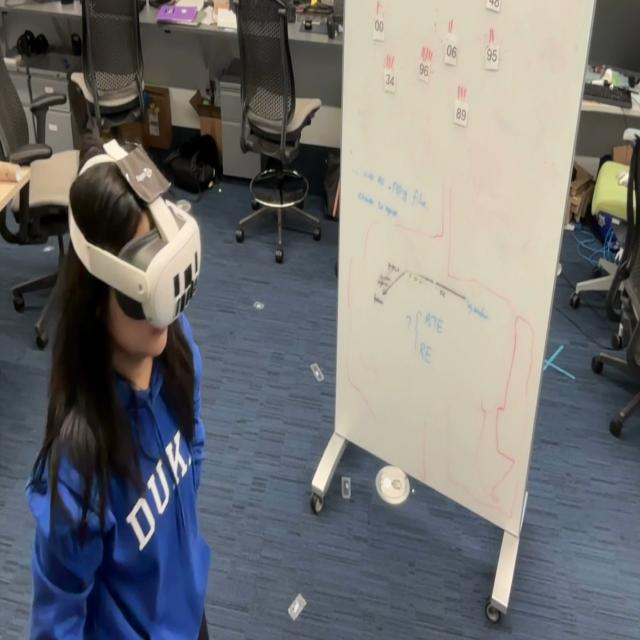Headset: (67, 146, 202, 330)
UnityLogo: (120, 145, 170, 203)
